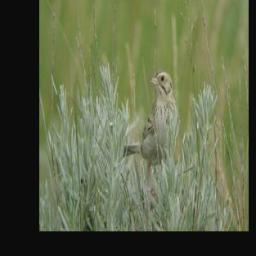Sparrow: (119, 64, 183, 207)
